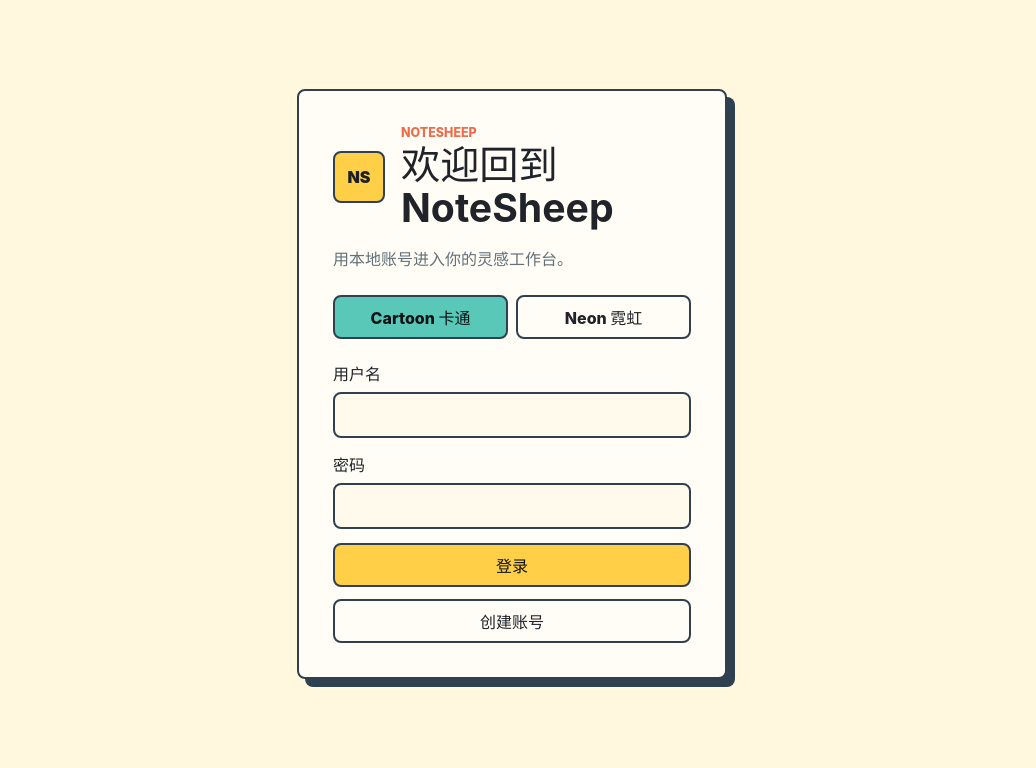
Test: Mind map node card › shows empty text and disabled audio state when detail content has no body or audio
Type "note-taker" into the field labelled "用户名" at (512, 415), box x1=333 y1=392 x2=691 y2=438
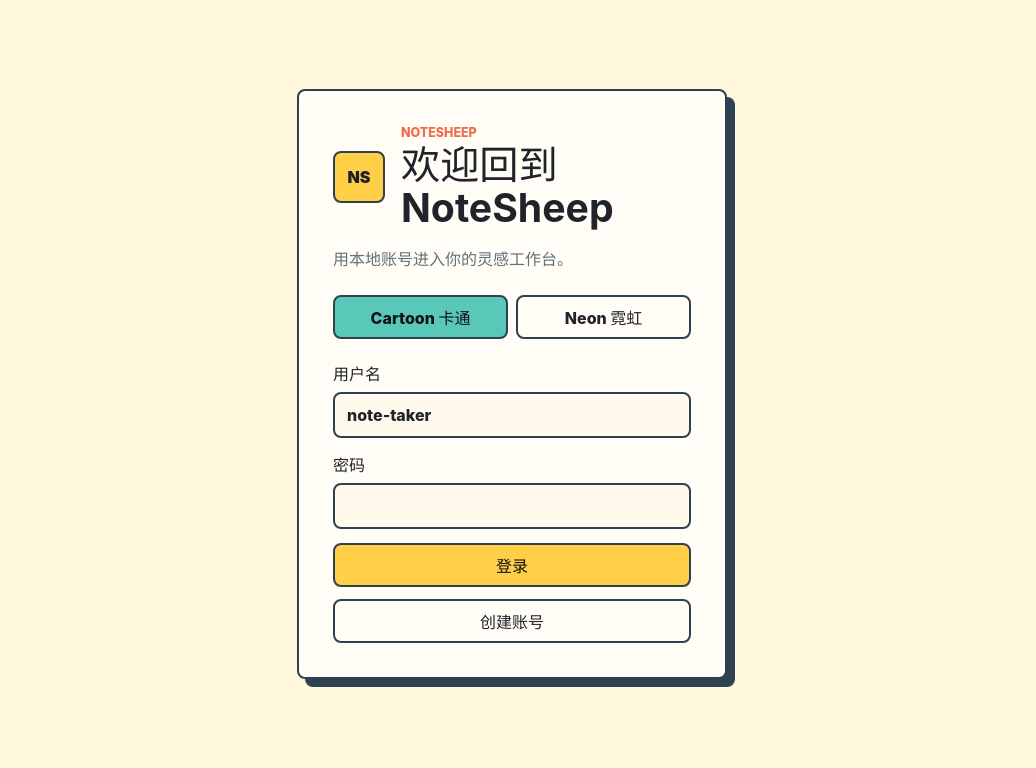
Type "secret1" into the password field labelled "密码" at (512, 506), box x1=333 y1=483 x2=691 y2=529
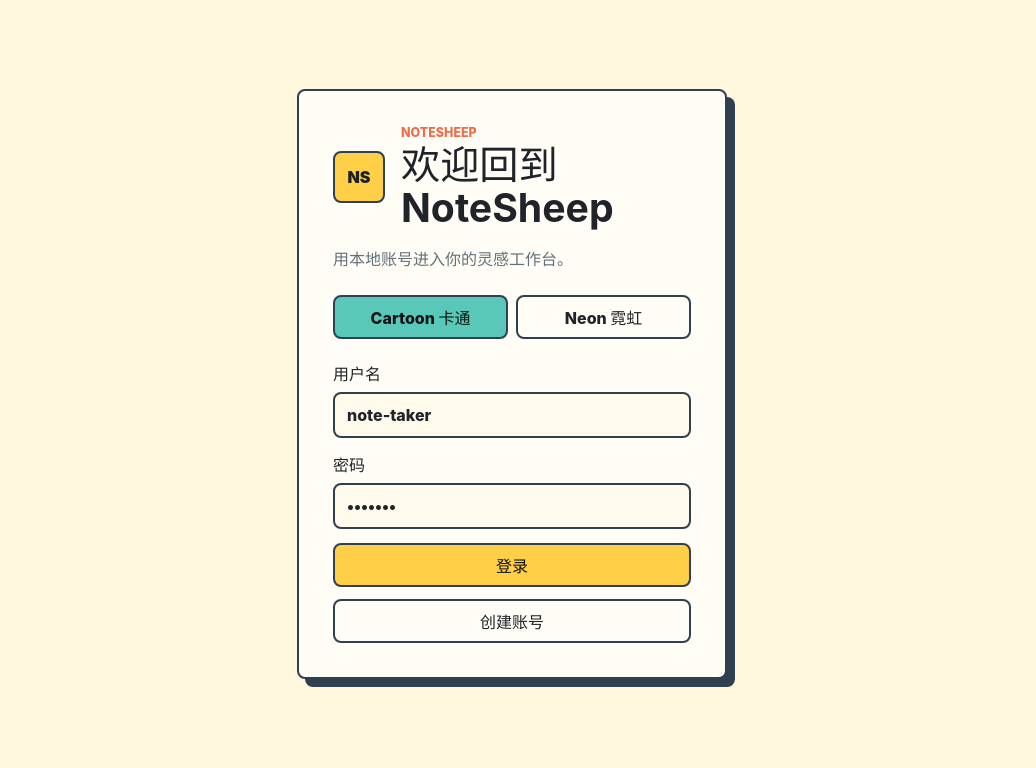
Click the button "登录" at (512, 565), box x1=333 y1=543 x2=691 y2=587
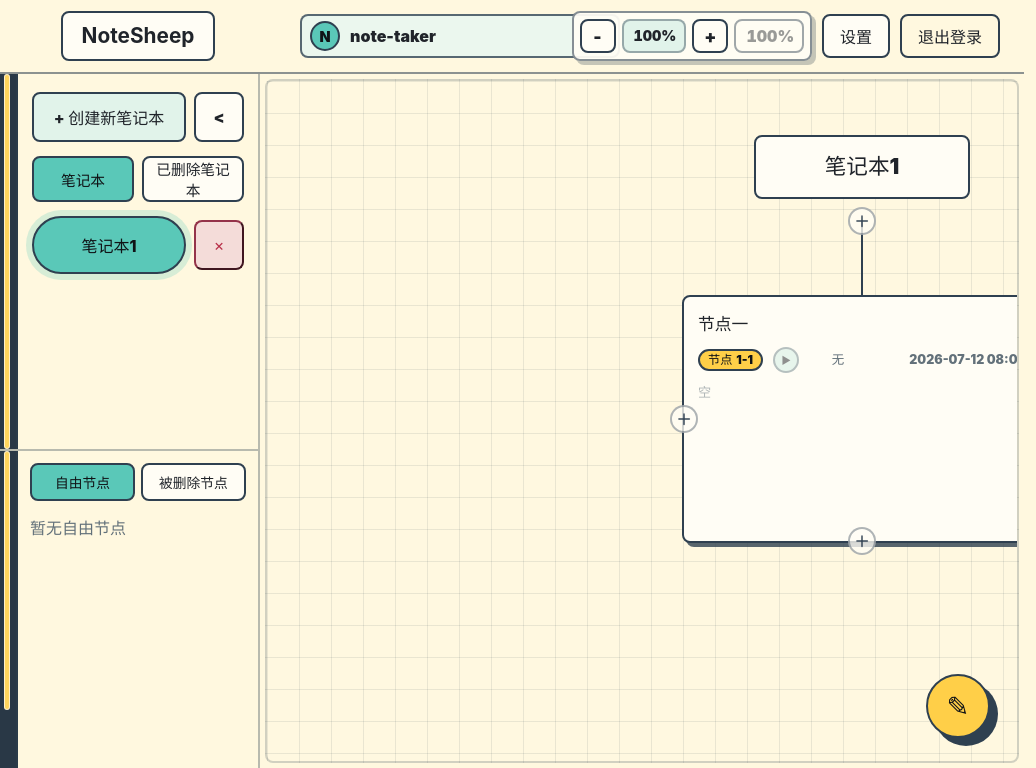
Check: the button with aria-label "打开笔记本 笔记本1" is shown, box x1=32 y1=216 x2=186 y2=274
Check: the text "空" is shown, box x1=698 y1=384 x2=711 y2=400
Check: the button named "播放音频" is disabled, box x1=773 y1=347 x2=799 y2=373
